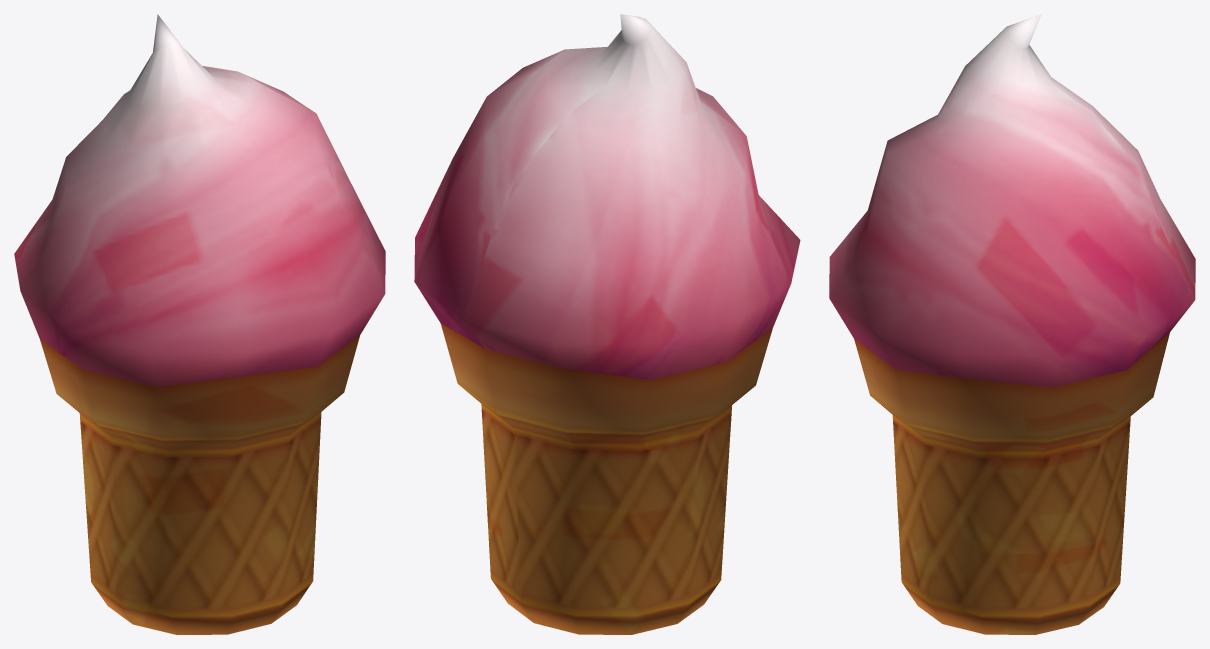
The model's file is Food_IceCream.fbx.
3 views of the same model, side by side, from view 1: azimuth 30°, elevation 25°; view 2: azimuth 150°, elevation 25°; view 3: azimuth 270°, elevation 25° (orthographic). The views are drawn at different scales.
Visible parts, largest first — view 1: Food_IceCream; view 2: Food_IceCream; view 3: Food_IceCream.
Part boxes in pixels (left/top/right/bottom): Food_IceCream: left=14, top=14, right=385, bottom=634; Food_IceCream: left=414, top=14, right=800, bottom=634; Food_IceCream: left=829, top=14, right=1195, bottom=634.
Size of the model in its own units: 0.2107 by 0.3699 by 0.2151.
